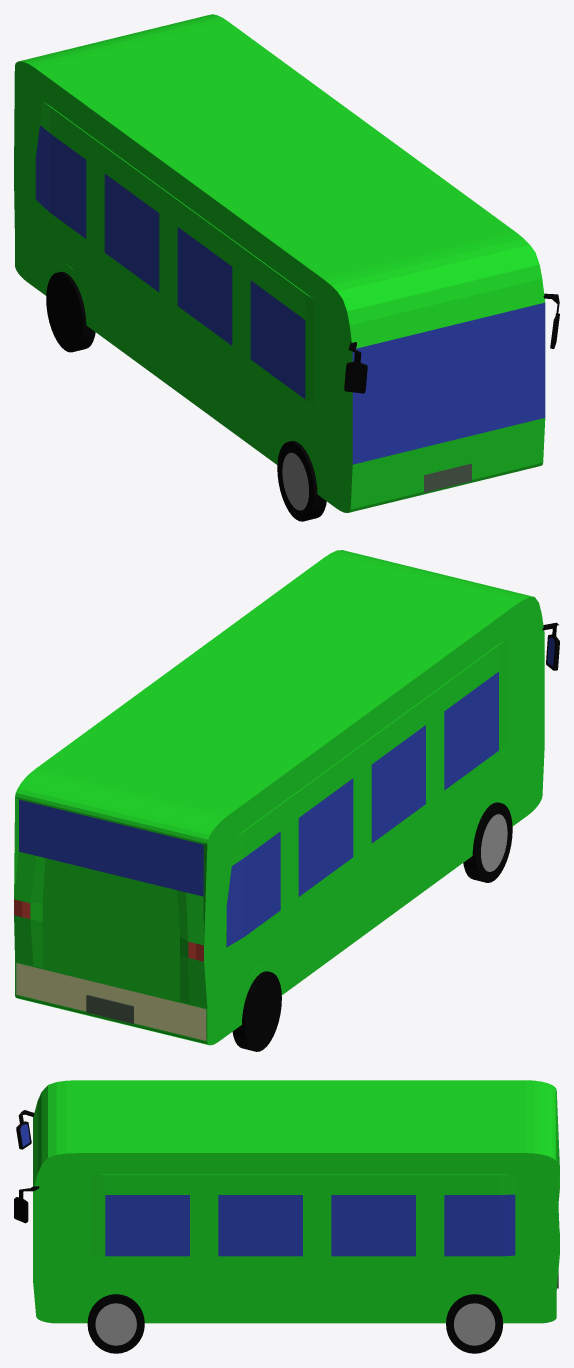
The model's file is bus 1.fbx.
3 renders of one model, top to bottom at view 1: azimuth 30°, elevation 25°; view 2: azimuth 150°, elevation 25°; view 3: azimuth 270°, elevation 25°, orthographic. The views are drawn at different scales.
Parts seen in each view (by area): view 1: 立方体, 円柱.002, 円柱.001, 立方体.002, 立方体.001; view 2: 立方体, 円柱.002, 円柱.001, 立方体.004; view 3: 立方体, 円柱.003, 円柱.004, 立方体.003, 立方体.001.
Part boxes in pixels (x1,y1,x2,y2): 立方体: (14, 14, 545, 512); 円柱.002: (277, 441, 326, 521); 円柱.001: (46, 271, 95, 352); 立方体.002: (424, 463, 471, 492); 立方体.001: (344, 342, 367, 393); 立方体: (14, 550, 544, 1045); 円柱.002: (463, 802, 512, 882); 円柱.001: (232, 971, 281, 1051); 立方体.004: (86, 995, 133, 1023); 立方体: (33, 1080, 559, 1323); 円柱.003: (87, 1294, 144, 1353); 円柱.004: (446, 1294, 503, 1353); 立方体.003: (14, 1186, 39, 1223); 立方体.001: (16, 1110, 34, 1149).
Bounding box in the file's own units: 200 × 228 × 566.
